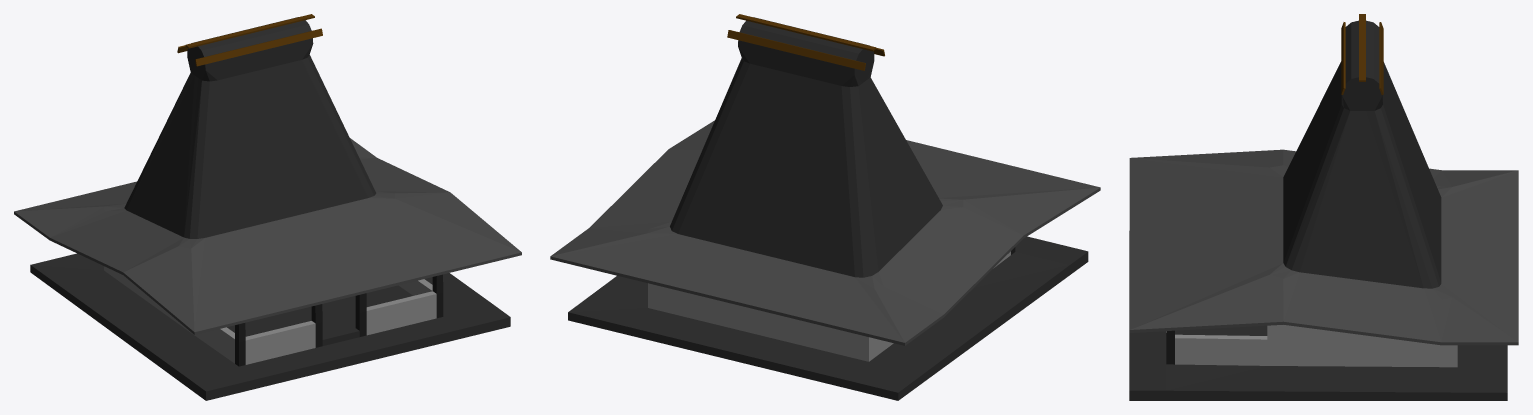
The model's file is Rumah adat.dae.
The picture shows the model from 3 angles, left to right: view 1: azimuth 30°, elevation 25°; view 2: azimuth 150°, elevation 25°; view 3: azimuth 270°, elevation 25°; orthographic projection. The views are drawn at different scales.
Visible parts, largest first — view 1: Rumah; view 2: Rumah; view 3: Rumah.
Part boxes in pixels (bbox=[...]): Rumah: bbox=[14, 14, 521, 400]; Rumah: bbox=[550, 14, 1100, 400]; Rumah: bbox=[1129, 14, 1518, 400].
Size of the model in its own units: 35.27 by 33.72 by 26.16.
